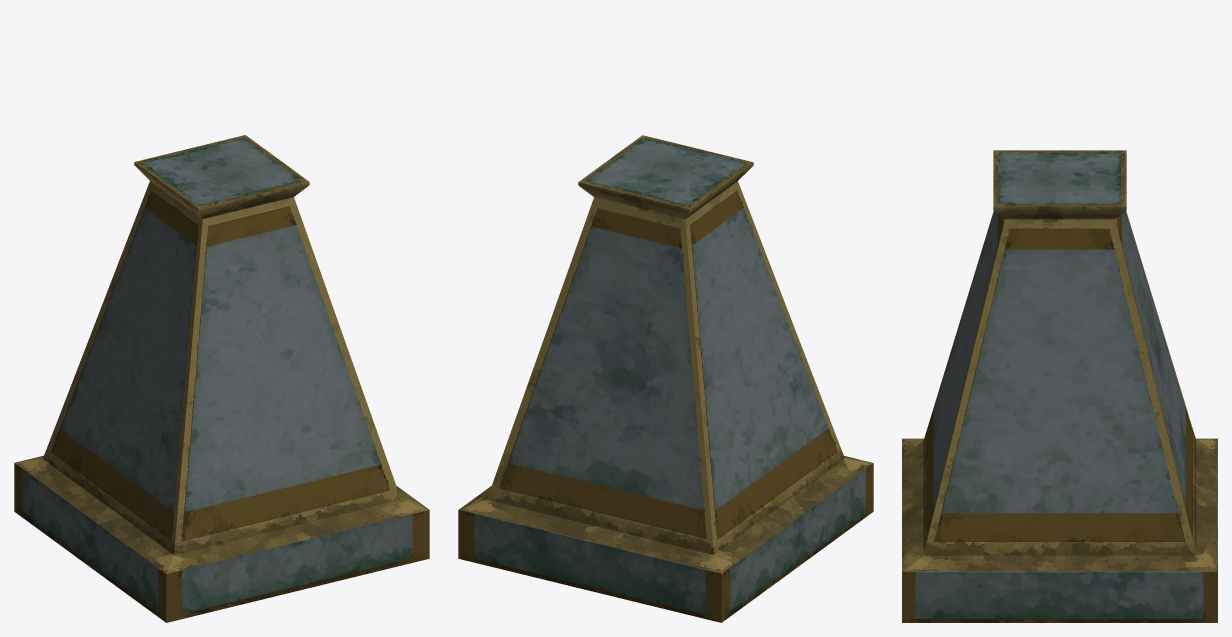
The model's file is Gema_LoD1.fbx.
3 views of the same model, side by side, from view 1: azimuth 30°, elevation 25°; view 2: azimuth 150°, elevation 25°; view 3: azimuth 270°, elevation 25° (orthographic). The views are drawn at different scales.
Parts seen in each view (by area): view 1: LOW; view 2: LOW; view 3: LOW.
Boxes of the visible parts, left/top/right/bottom form: LOW: left=14, top=135, right=429, bottom=622; LOW: left=458, top=135, right=873, bottom=622; LOW: left=902, top=150, right=1217, bottom=622.
Bounding box in the file's own units: 2.66 × 5.04 × 2.66.
